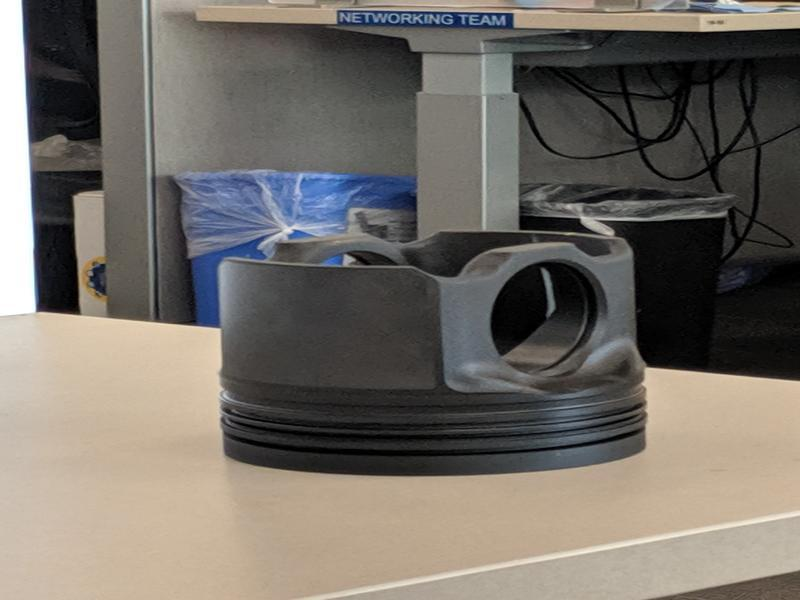piston: (214, 226, 653, 479)
